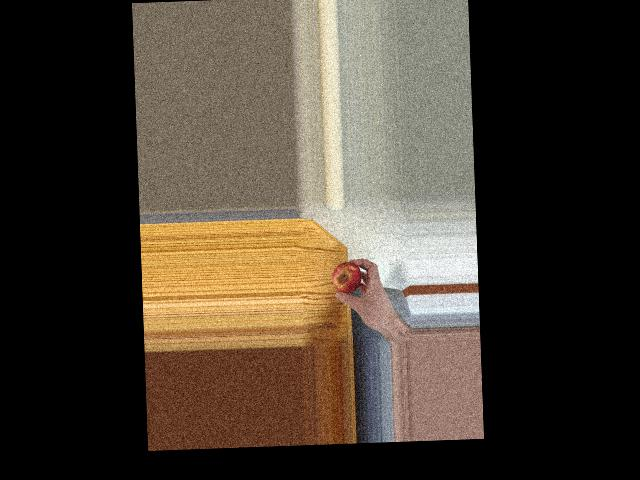apple: (331, 260, 364, 298)
